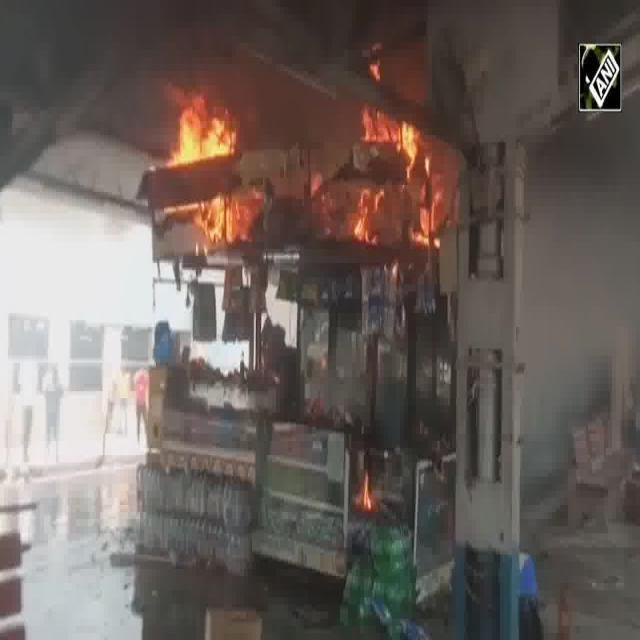Fire: (158, 84, 252, 158), (173, 203, 251, 252), (354, 107, 428, 150), (343, 182, 377, 240)
